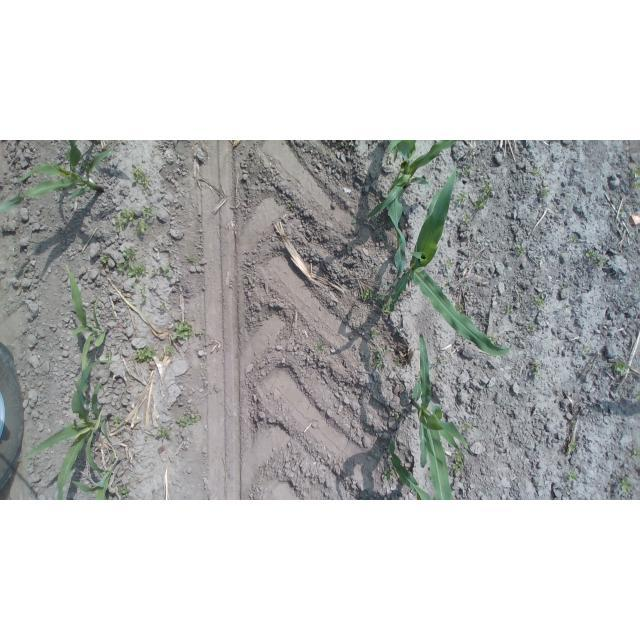Maize: (388, 166, 511, 355), (18, 358, 120, 500), (410, 332, 475, 500), (0, 140, 118, 213), (366, 140, 463, 220), (65, 262, 112, 394), (71, 426, 122, 500), (388, 436, 435, 500)
Weeds: (112, 206, 136, 232), (129, 163, 151, 190), (170, 320, 195, 342), (475, 181, 493, 211), (357, 286, 390, 302), (150, 262, 174, 279), (371, 345, 387, 370), (136, 345, 157, 364), (127, 263, 148, 280), (176, 413, 199, 428), (452, 450, 465, 475), (374, 302, 395, 317), (140, 204, 157, 221), (156, 427, 175, 442), (620, 475, 633, 495), (121, 246, 135, 264), (136, 218, 149, 237), (615, 359, 630, 375), (532, 291, 547, 307), (115, 485, 131, 500), (382, 467, 397, 482), (567, 437, 580, 454), (626, 446, 640, 461), (460, 420, 473, 435), (368, 328, 381, 343), (560, 304, 575, 317), (536, 186, 551, 199), (113, 261, 128, 274), (531, 361, 543, 377), (632, 168, 640, 192), (138, 286, 148, 304), (529, 168, 545, 179), (565, 469, 578, 482), (162, 344, 175, 357), (516, 243, 528, 257), (433, 355, 447, 367), (457, 190, 467, 206), (185, 254, 201, 264), (112, 415, 124, 428), (100, 251, 111, 264), (463, 213, 473, 227), (445, 256, 456, 268), (487, 335, 498, 346), (570, 234, 581, 245), (587, 247, 597, 259), (526, 321, 536, 332), (315, 343, 325, 353), (597, 257, 606, 268), (558, 284, 570, 292), (455, 304, 465, 313), (288, 202, 297, 212), (504, 304, 515, 312), (581, 346, 590, 355), (160, 304, 168, 314), (634, 390, 640, 403), (344, 141, 356, 147), (128, 282, 137, 290), (104, 351, 112, 359)
